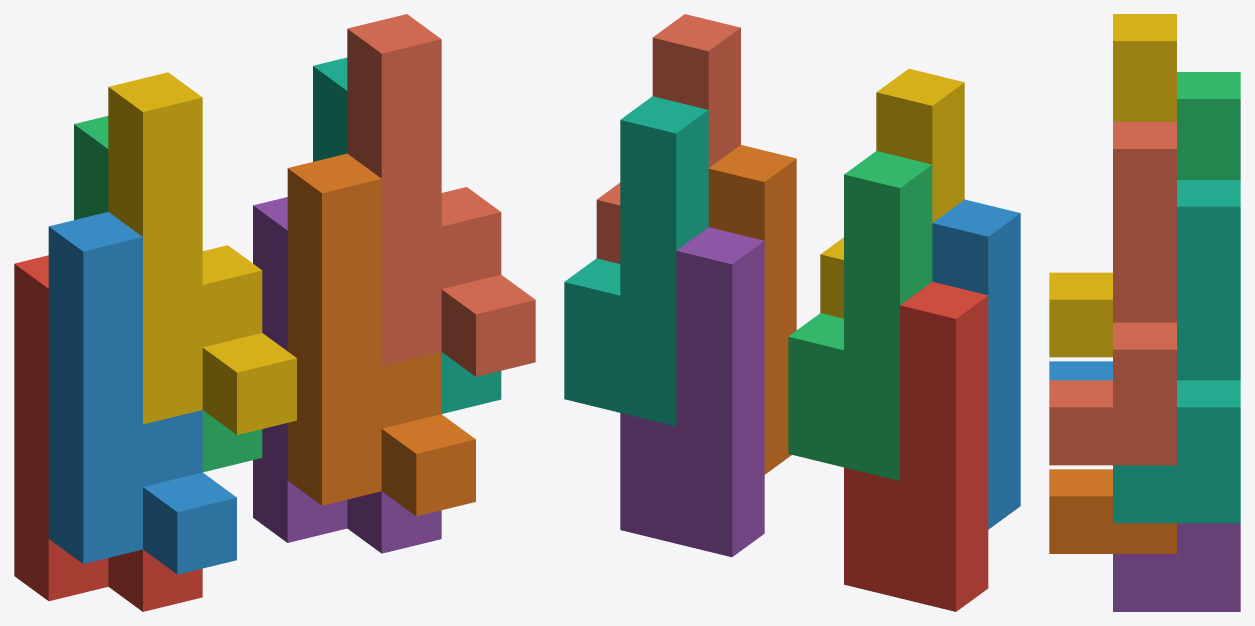
File: tiling.obj
3 views of the same model, side by side, from view 1: azimuth 30°, elevation 25°; view 2: azimuth 150°, elevation 25°; view 3: azimuth 270°, elevation 25° (orthographic). The views are drawn at different scales.
Visible parts, largest first — view 1: copy_1_domain_2, copy_1_domain_6, copy_1_domain_8, copy_1_domain_4, copy_1_domain_1, copy_1_domain_5, copy_1_domain_3, copy_1_domain_7; view 2: copy_1_domain_1, copy_1_domain_5, copy_1_domain_7, copy_1_domain_3, copy_1_domain_2, copy_1_domain_6, copy_1_domain_8, copy_1_domain_4; view 3: copy_1_domain_8, copy_1_domain_7, copy_1_domain_4, copy_1_domain_5, copy_1_domain_6, copy_1_domain_3, copy_1_domain_2.
Part boxes in pixels (left/top/right/bottom): copy_1_domain_2: left=48, top=212, right=236, bottom=574; copy_1_domain_6: left=287, top=153, right=475, bottom=516; copy_1_domain_8: left=347, top=14, right=535, bottom=376; copy_1_domain_4: left=108, top=72, right=296, bottom=434; copy_1_domain_1: left=14, top=255, right=202, bottom=611; copy_1_domain_5: left=253, top=197, right=441, bottom=553; copy_1_domain_3: left=74, top=116, right=262, bottom=472; copy_1_domain_7: left=313, top=57, right=501, bottom=413; copy_1_domain_1: left=844, top=281, right=988, bottom=611; copy_1_domain_5: left=620, top=227, right=764, bottom=557; copy_1_domain_7: left=564, top=96, right=708, bottom=426; copy_1_domain_3: left=788, top=151, right=932, bottom=480; copy_1_domain_2: left=932, top=199, right=1020, bottom=529; copy_1_domain_6: left=708, top=145, right=796, bottom=474; copy_1_domain_8: left=596, top=14, right=740, bottom=263; copy_1_domain_4: left=820, top=68, right=964, bottom=318; copy_1_domain_8: left=1049, top=122, right=1176, bottom=465; copy_1_domain_7: left=1113, top=180, right=1240, bottom=523; copy_1_domain_4: left=1049, top=14, right=1176, bottom=357; copy_1_domain_5: left=1113, top=523, right=1240, bottom=611; copy_1_domain_6: left=1049, top=469, right=1176, bottom=553; copy_1_domain_3: left=1177, top=72, right=1240, bottom=179; copy_1_domain_2: left=1049, top=361, right=1112, bottom=380.
Size of the model in its own units: 7 by 8 by 3.
